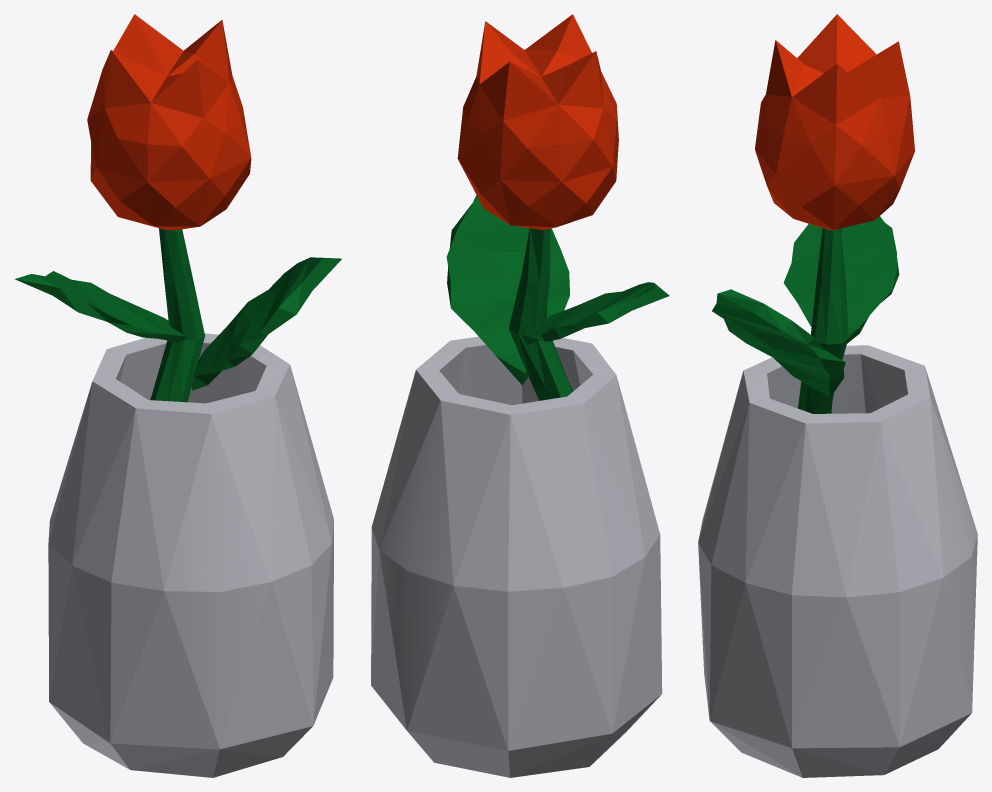
File: item_flower.fbx
3 views of the same model, side by side, from view 1: azimuth 30°, elevation 25°; view 2: azimuth 150°, elevation 25°; view 3: azimuth 270°, elevation 25° (orthographic). The views are drawn at different scales.
Visible parts, largest first — view 1: item_flower; view 2: item_flower; view 3: item_flower.
Part boxes in pixels (x1=…): item_flower: x1=14, y1=14, x2=341, y2=777; item_flower: x1=371, y1=14, x2=669, y2=777; item_flower: x1=698, y1=14, x2=977, y2=777.
Size of the model in its own units: 15.76 by 36.72 by 13.57.
